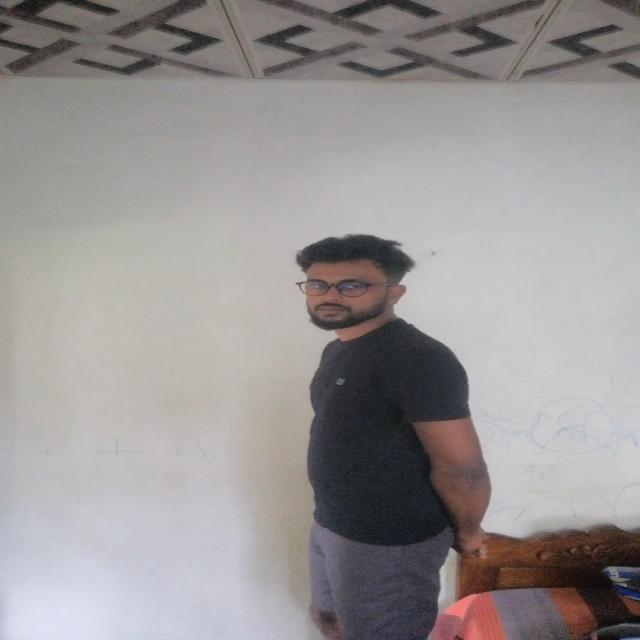Person: (265, 234, 496, 640)
